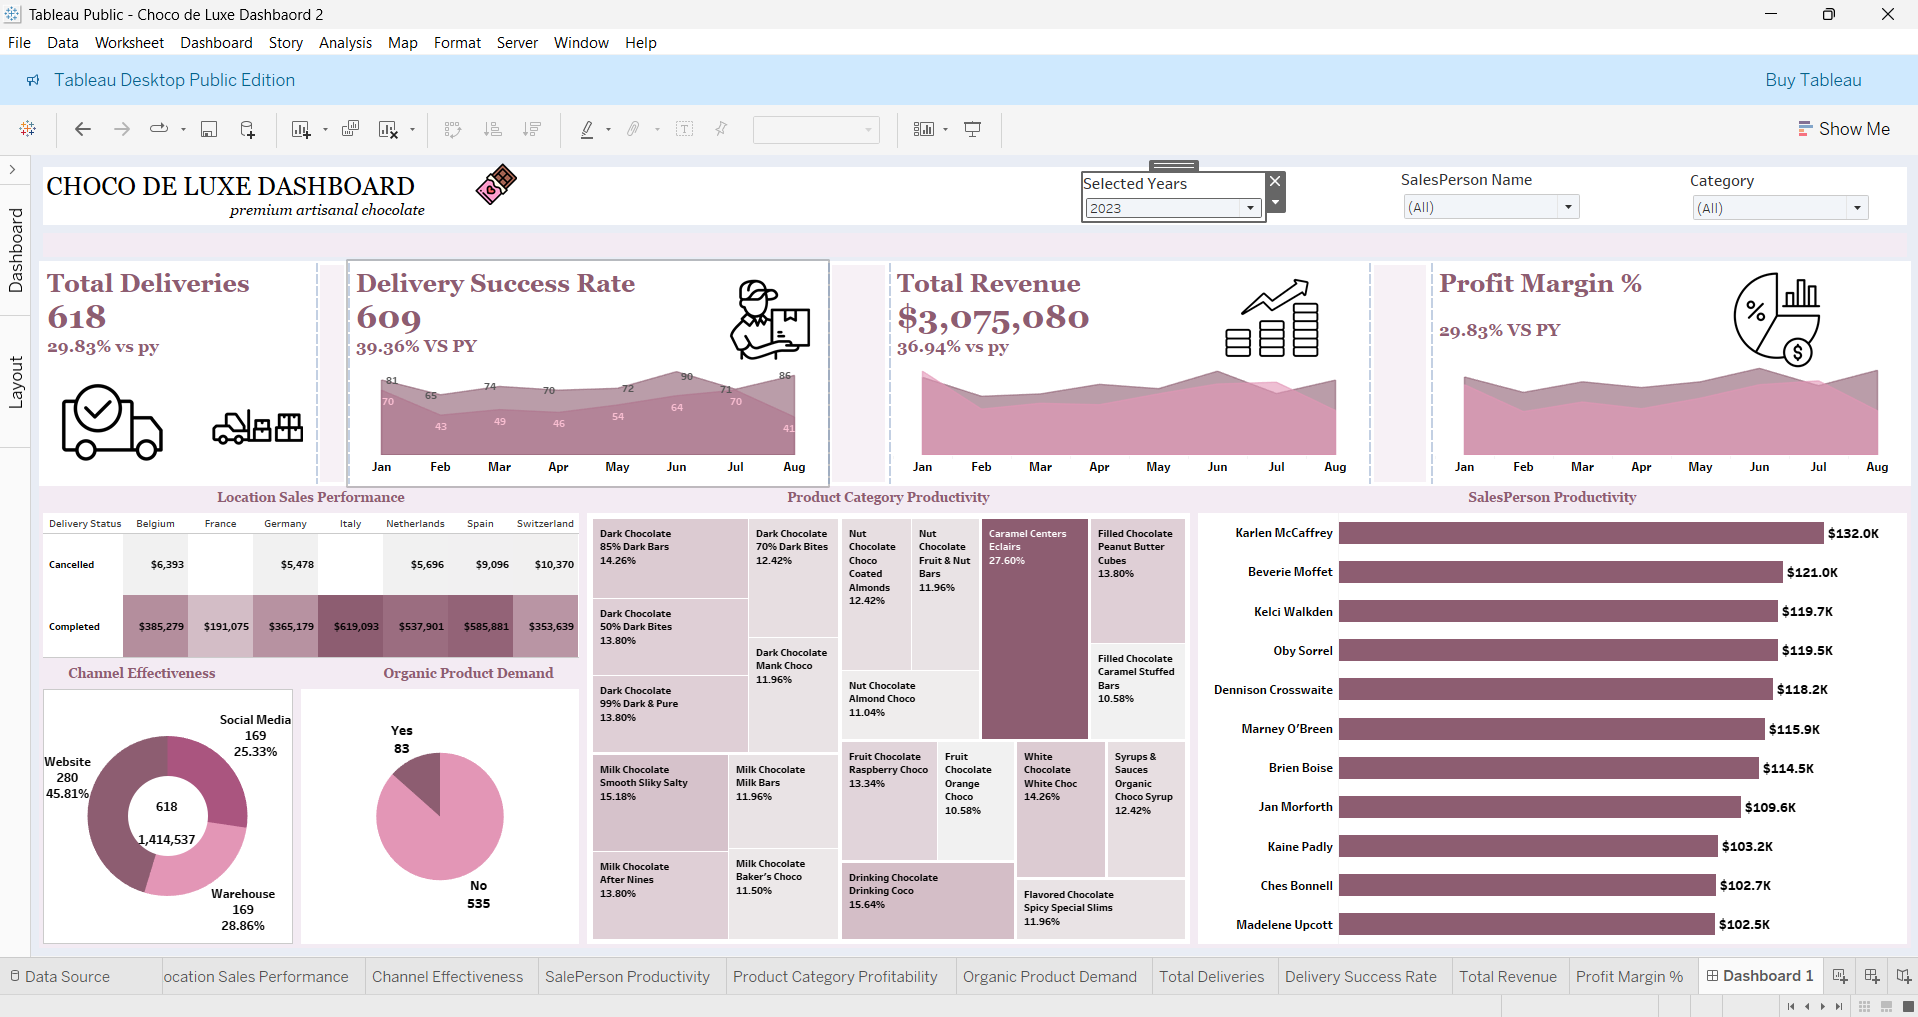

The dashboard page shown, as its layout file describes it:
{"tool":"tableau","page":{"name":"CHOCO DE LUXE DASHBOARD","canvas":[1000,1000],"units":"permille","ordinal":0},"visuals":[{"type":"text","box":[4.2,10,991.5,82.4]},{"type":"image","param":"Image/chocolate (1).png","box":[235.4,10,35,52.4]},{"type":"filter","title":"Location Sales Performance","param":"[federated.1a3qa581vdpiau12jeuxn0k5hg1q].[none:SalesPerson Name:nk]","box":[725.4,17.5,96.6,66.2]},{"type":"filter","title":"Location Sales Performance","param":"[federated.1a3qa581vdpiau12jeuxn0k5hg1q].[none:Category:nk]","box":[878.7,18.7,96.6,66.2]},{"type":"parameter","param":"[Parameters].[Parameter 1]","box":[557,22.5,96.6,59.9]},{"type":"blank","box":[4.2,92.4,991.5,40.1]},{"type":"worksheet","title":"Total Deliveries","mark":"Automatic","box":[4.2,132.5,146.7,280.7]},{"type":"blank","box":[151,132.5,16.9,280.7]},{"type":"worksheet","title":"Delivery Success Rate","mark":"Area","rows":["Calculation_232216878525898769","Calculation_232216878526521362"],"cols":["Date"],"box":[167.9,132.5,264.1,280.7]},{"type":"blank","box":[432,132.5,16.9,280.7]},{"type":"worksheet","title":"Total Revenue","mark":"Area","rows":["CY Deliveries (copy)_540150503252566026","PY Deliveries (copy)_540150503254061067"],"cols":["Date"],"box":[448.9,132.5,264.1,280.7]},{"type":"blank","box":[713,132.5,18.5,280.7]},{"type":"worksheet","title":"Profit Margin %","mark":"Area","rows":["CY Deliveries (copy)_540150503270477848","PY Total Deliveries (copy)_540150503270821913"],"cols":["Date"],"box":[731.6,132.5,264.1,280.7]},{"type":"image","param":"Image/revenue-growth.png","box":[631.3,142.3,63.4,121.1]},{"type":"image","param":"Image/profit-margin.png","box":[898,142.3,70.6,126.1]},{"type":"image","param":"Image/delivery-man.png","box":[368.7,153.6,62.2,104.9]},{"type":"image","param":"Image/delivered (1).png","box":[9.7,254.7,80.9,157.3]},{"type":"image","param":"Image/delivery (2).png","box":[96,282.2,83.3,113.6]},{"type":"text","box":[4.2,413.2,288.1,28.7]},{"type":"text","box":[292.4,413.2,323.6,28.7]},{"type":"text","box":[616,413.2,379.8,28.7]},{"type":"worksheet","title":"Location Sales Performance","mark":"Square","rows":["Delivery Status"],"cols":["Country"],"box":[4.2,441.9,288.1,191]},{"type":"worksheet","title":"Product Category Profitability","mark":"Automatic","box":[292.4,441.9,323.6,548.1]},{"type":"worksheet","title":"SalePerson Productivity","mark":"Automatic","rows":["SalesPerson Name"],"cols":["Calculation_232216878453989387"],"box":[616,441.9,379.8,548]},{"type":"text","box":[4.2,633,288.1,28.7]},{"type":"worksheet","title":"Channel Effectiveness","mark":"Pie","cols":["Calculation_232216878449336327","Calculation_232216878449451017"],"box":[4.2,661.7,136.7,328.3]},{"type":"worksheet","title":"Organic Product Demand","mark":"Pie","box":[140.9,661.7,151.5,328.3]}]}

Visuals, with their boxes on the dashboard's canvas, which has no fixed pixel size, in thousandths of its width and height (x1, y1, x2, y2). These are canvas units, not pixel positions in the 1918x1017 screenshot, which may show the page scaled, cropped or inside an application window:
text: region(4, 10, 996, 92)
image: region(235, 10, 270, 62)
"Location Sales Performance" filter: region(725, 18, 822, 84)
"Location Sales Performance" filter: region(879, 19, 975, 85)
parameter: region(557, 22, 654, 82)
blank: region(4, 92, 996, 132)
"Total Deliveries" worksheet: region(4, 132, 151, 413)
blank: region(151, 132, 168, 413)
"Delivery Success Rate" worksheet (Area marks): region(168, 132, 432, 413)
blank: region(432, 132, 449, 413)
"Total Revenue" worksheet (Area marks): region(449, 132, 713, 413)
blank: region(713, 132, 732, 413)
"Profit Margin %" worksheet (Area marks): region(732, 132, 996, 413)
image: region(631, 142, 695, 263)
image: region(898, 142, 969, 268)
image: region(369, 154, 431, 258)
image: region(10, 255, 91, 412)
image: region(96, 282, 179, 396)
text: region(4, 413, 292, 442)
text: region(292, 413, 616, 442)
text: region(616, 413, 996, 442)
"Location Sales Performance" worksheet (Square marks): region(4, 442, 292, 633)
"Product Category Profitability" worksheet: region(292, 442, 616, 990)
"SalePerson Productivity" worksheet: region(616, 442, 996, 990)
text: region(4, 633, 292, 662)
"Channel Effectiveness" worksheet (Pie marks): region(4, 662, 141, 990)
"Organic Product Demand" worksheet (Pie marks): region(141, 662, 292, 990)
